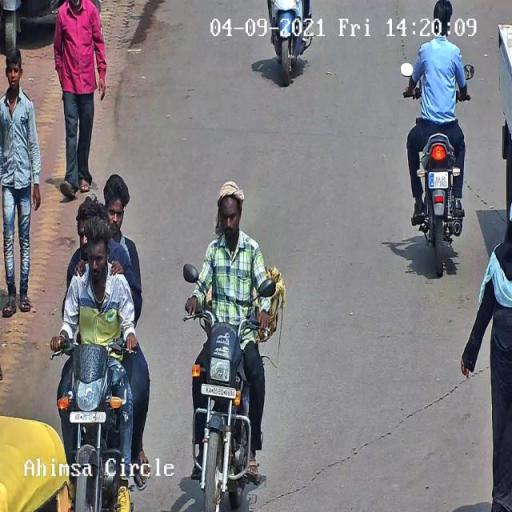tripple riding: (46, 171, 152, 369)
